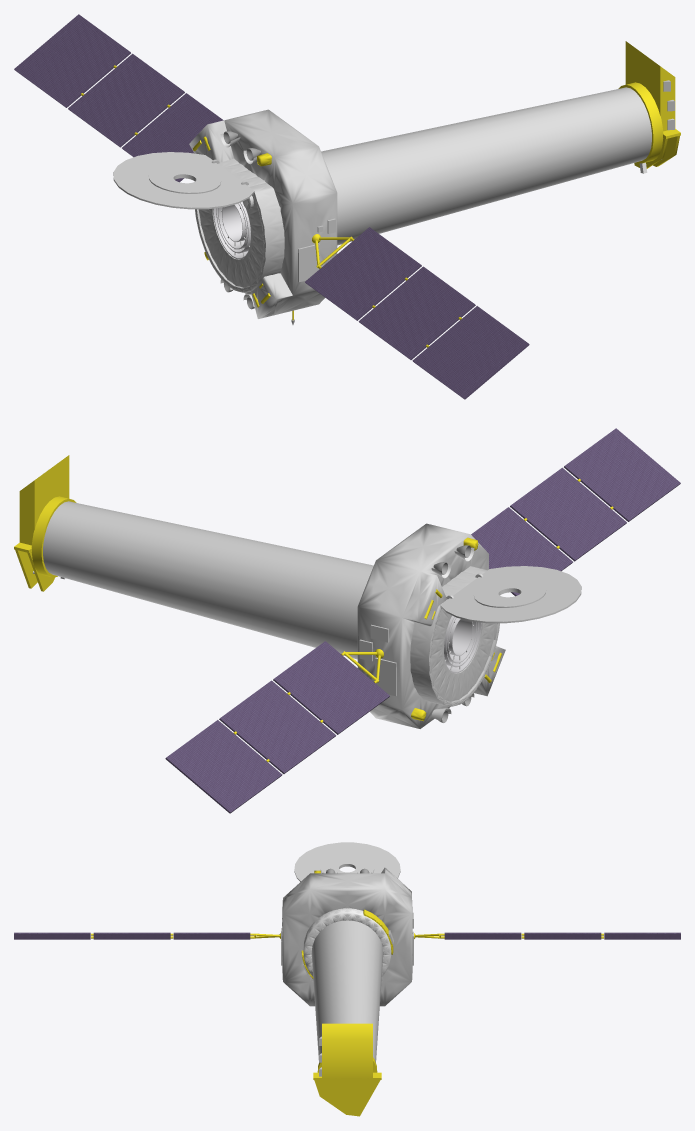
File: chandra_x-ray_observatory.glb
3 renders of one model, top to bottom at view 1: azimuth 30°, elevation 25°; view 2: azimuth 150°, elevation 25°; view 3: azimuth 270°, elevation 25°, orthographic. The views are drawn at different scales.
Visible parts, largest first — view 1: mesh34_metal_0, mesh35_metal_0, mesh09_metal_0, cube17, cube12, cube14, cube15, cube16, mesh37_metal_0, cube13, mesh36_metal_0, mesh03_gold_0 (+3 smaller); view 2: mesh34_metal_0, mesh35_metal_0, mesh09_metal_0, cube14, cube15, cube17, cube12, cube13, cube16, mesh37_metal_0, mesh36_metal_0, mesh03_gold_0 (+3 smaller); view 3: mesh35_metal_0, mesh34_metal_0, mesh03_gold_0, mesh09_metal_0, mesh02_gold_0, mesh38_ -- default --_0, cube12, cube13, cube15, cube16, cube14, cube17.
Boxes of the visible parts, left/top/right/bottom form: mesh34_metal_0: left=321, top=87, right=651, bottom=245; mesh35_metal_0: left=189, top=109, right=337, bottom=318; mesh09_metal_0: left=113, top=152, right=254, bottom=209; cube17: left=412, top=306, right=529, bottom=399; cube12: left=68, top=53, right=184, bottom=147; cube14: left=14, top=14, right=130, bottom=107; cube15: left=358, top=266, right=475, bottom=359; cube16: left=305, top=227, right=421, bottom=320; mesh37_metal_0: left=195, top=157, right=284, bottom=292; cube13: left=122, top=93, right=223, bottom=182; mesh36_metal_0: left=198, top=194, right=263, bottom=287; mesh03_gold_0: left=625, top=41, right=675, bottom=131; mesh34_metal_0: left=43, top=501, right=373, bottom=659; mesh35_metal_0: left=357, top=523, right=505, bottom=728; mesh09_metal_0: left=440, top=566, right=581, bottom=623; cube14: left=165, top=720, right=282, bottom=813; cube15: left=510, top=467, right=626, bottom=561; cube17: left=564, top=428, right=680, bottom=521; cube12: left=219, top=680, right=336, bottom=773; cube13: left=273, top=641, right=389, bottom=734; cube16: left=471, top=507, right=572, bottom=596; mesh37_metal_0: left=410, top=566, right=499, bottom=706; mesh36_metal_0: left=431, top=608, right=496, bottom=701; mesh03_gold_0: left=19, top=455, right=69, bottom=545; mesh35_metal_0: left=282, top=867, right=412, bottom=1006; mesh34_metal_0: left=311, top=920, right=383, bottom=1062; mesh03_gold_0: left=322, top=1023, right=372, bottom=1079; mesh09_metal_0: left=294, top=842, right=400, bottom=881; mesh02_gold_0: left=314, top=1080, right=380, bottom=1116; mesh38_ -- default --_0: left=303, top=908, right=391, bottom=976; cube12: left=524, top=932, right=601, bottom=939; cube13: left=444, top=932, right=521, bottom=939; cube15: left=93, top=932, right=170, bottom=939; cube16: left=173, top=932, right=250, bottom=939; cube14: left=604, top=932, right=680, bottom=939; cube17: left=14, top=932, right=90, bottom=939.
Bounding box in the file's own units: 536 × 181 × 782.
Materials: 8 (1 with a texture image).
